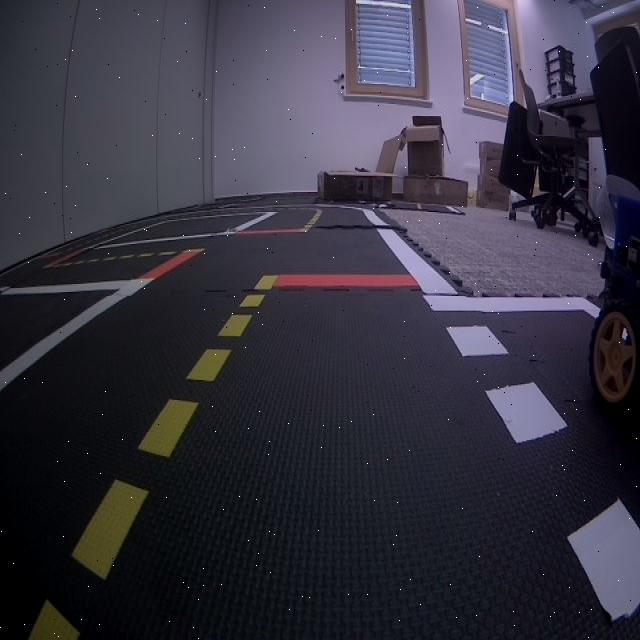bot: (587, 176, 639, 415)
park: (427, 296, 639, 639)
